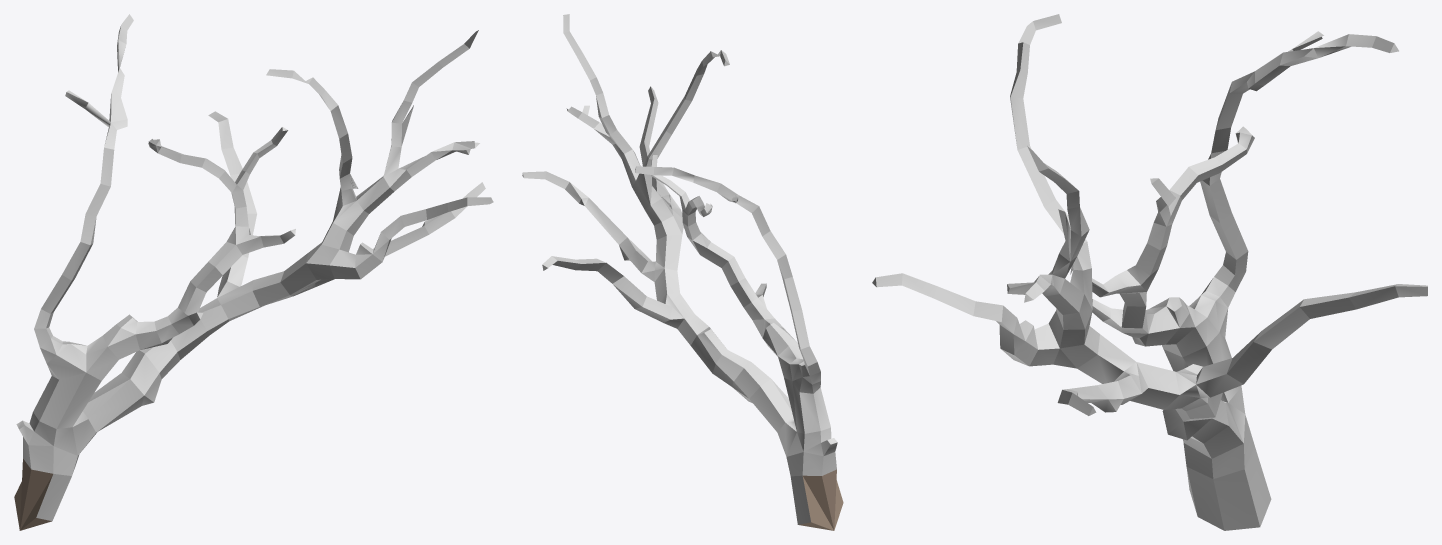
Rendered from top.fbx.
3 views of the same model, side by side, from view 1: azimuth 30°, elevation 25°; view 2: azimuth 150°, elevation 25°; view 3: azimuth 270°, elevation 25° (orthographic). The views are drawn at different scales.
Parts seen in each view (by area): view 1: top; view 2: top; view 3: top.
Boxes of the visible parts, box(x1,y1,x2,y2) form: top: box(14, 14, 493, 530); top: box(522, 14, 843, 530); top: box(872, 14, 1427, 530).
Bounding box in the file's own units: 325 × 273 × 344.
